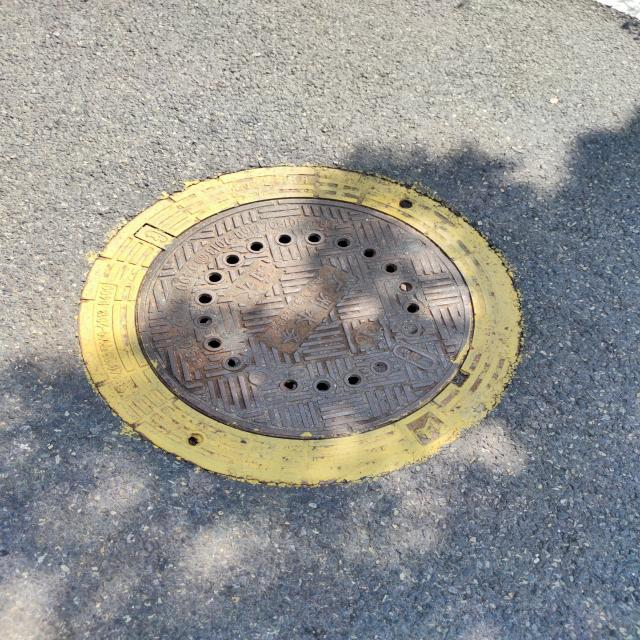Good: (77, 160, 526, 494)
